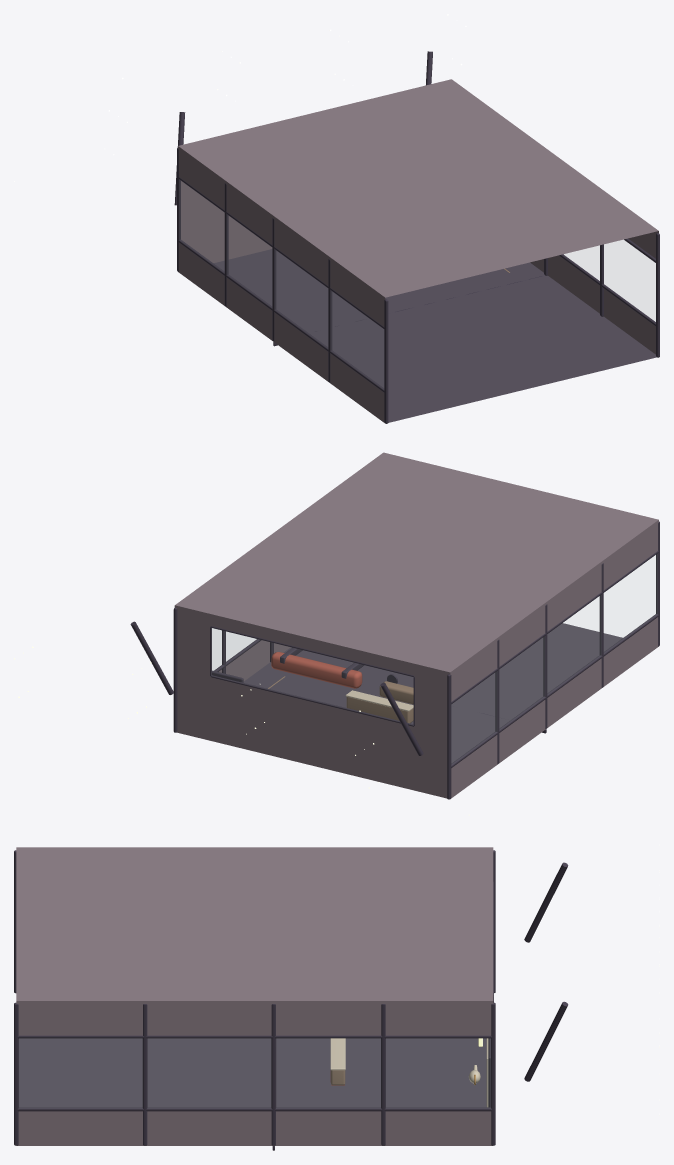
File: garage.glb
3 views of the same model, one above another, from view 1: azimuth 30°, elevation 25°; view 2: azimuth 150°, elevation 25°; view 3: azimuth 270°, elevation 25° (orthographic). The views are drawn at different scales.
Parts seen in each view (by area): view 1: Roof panels - Wall, Floor extension - Floor, Port wall - Wall, Floor - Floor, Port wall - Rib, Rear bulkhead - Wall, Starboard wall - Wall, Starboard wall - Rib; view 2: Roof panels - Wall, Rear bulkhead - Wall, Port wall - Wall, Floor extension - Floor, Floor - Floor, Port wall - Rib, Signature architecture - Accent, Rear bulkhead - Rib, Starboard wall - Wall, Starboard wall - Rib, Outside the glazing - Rib, Counter - Secondary (+1 smaller); view 3: Roof panels - Wall, Starboard wall - Wall, Floor extension - Floor, Floor - Floor, Starboard wall - Rib, Outside the glazing - Rib, Port wall - Rib, Counter - Pale.
Boxes of the visible parts, x1,y1,x2,y2 form: Roof panels - Wall: [178, 79, 658, 297]; Floor extension - Floor: [309, 275, 656, 422]; Port wall - Wall: [178, 146, 385, 422]; Floor - Floor: [214, 249, 544, 332]; Port wall - Rib: [177, 148, 388, 423]; Rear bulkhead - Wall: [181, 181, 272, 263]; Starboard wall - Wall: [530, 231, 658, 354]; Starboard wall - Rib: [544, 233, 659, 357]; Roof panels - Wall: [175, 452, 658, 672]; Rear bulkhead - Wall: [174, 605, 450, 798]; Port wall - Wall: [450, 520, 658, 798]; Floor extension - Floor: [283, 623, 622, 720]; Floor - Floor: [243, 662, 510, 763]; Port wall - Rib: [447, 521, 659, 799]; Signature architecture - Accent: [271, 652, 362, 688]; Rear bulkhead - Rib: [210, 626, 414, 726]; Starboard wall - Wall: [219, 640, 290, 681]; Starboard wall - Rib: [173, 607, 273, 732]; Outside the glazing - Rib: [130, 621, 423, 755]; Counter - Secondary: [346, 697, 413, 723]; Roof panels - Wall: [16, 847, 493, 1000]; Starboard wall - Wall: [16, 1001, 493, 1145]; Floor extension - Floor: [19, 1038, 271, 1107]; Floor - Floor: [276, 1038, 486, 1107]; Starboard wall - Rib: [14, 1002, 495, 1145]; Outside the glazing - Rib: [524, 862, 568, 1081]; Port wall - Rib: [14, 850, 495, 993]; Counter - Pale: [330, 1038, 345, 1070].
Size of the model in its own units: 31.75 by 9.65 by 34.14.
